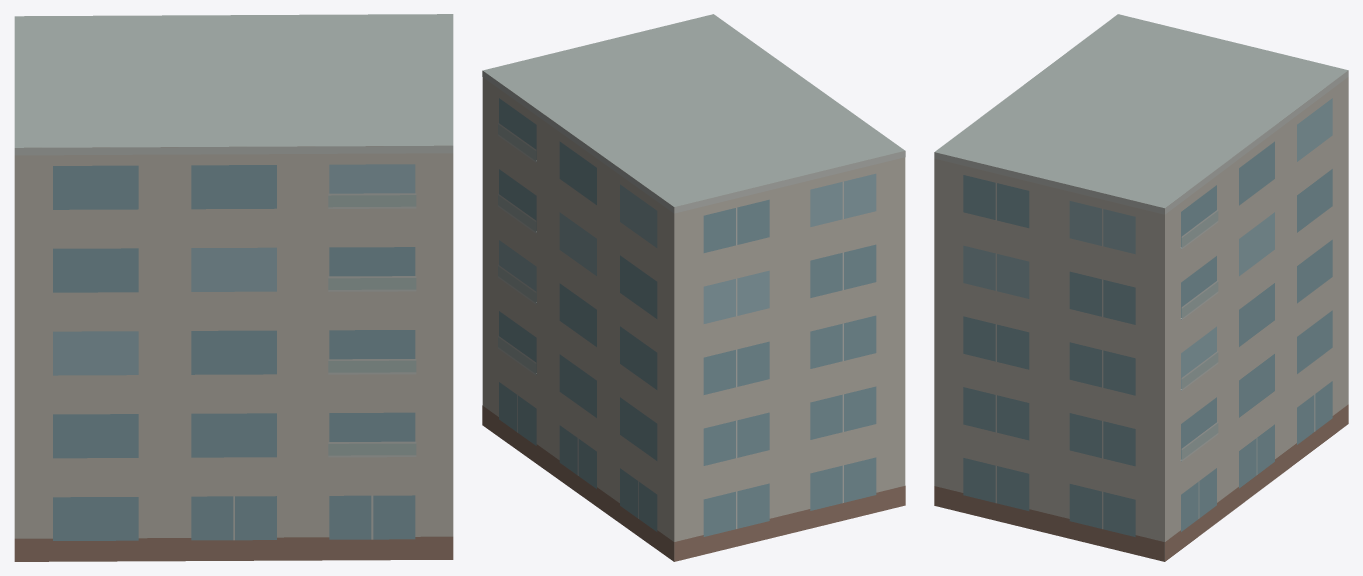
File: survey-upis-32890021.glb
The picture shows the model from 3 angles, left to right: view 1: azimuth 30°, elevation 25°; view 2: azimuth 150°, elevation 25°; view 3: azimuth 270°, elevation 25°; orthographic projection. The views are drawn at different scales.
Visible parts, largest first — view 1: survey-upis-32890021.tmp; view 2: survey-upis-32890021.tmp; view 3: survey-upis-32890021.tmp.
Boxes of the visible parts, x1,y1,x2,y2 form: survey-upis-32890021.tmp: [14, 14, 453, 561]; survey-upis-32890021.tmp: [482, 14, 905, 561]; survey-upis-32890021.tmp: [934, 14, 1348, 561].
Size of the model in its own units: 15.74 by 13.35 by 14.18.
